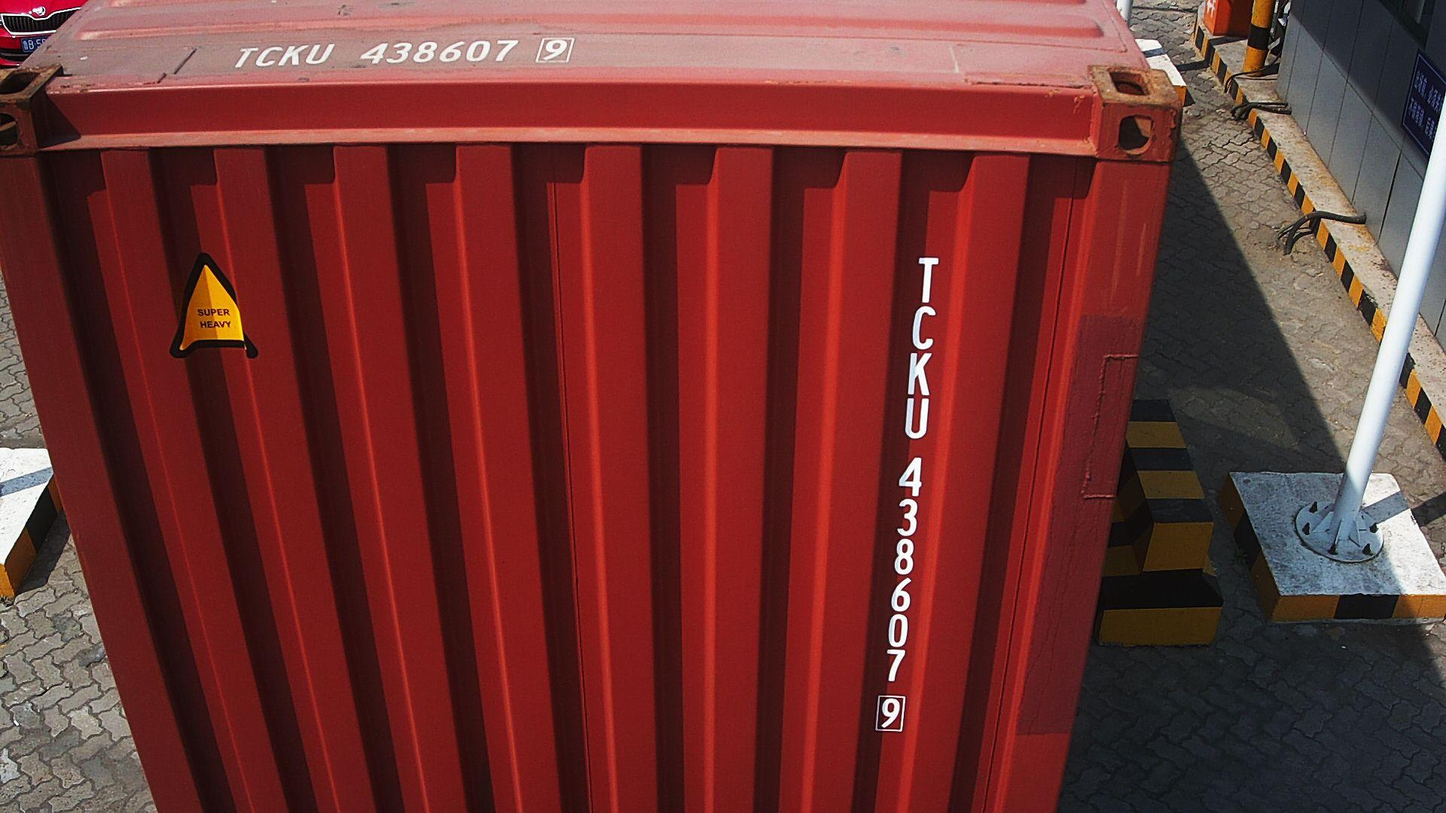container-numbers: (870, 251, 943, 734), (221, 35, 581, 71)
